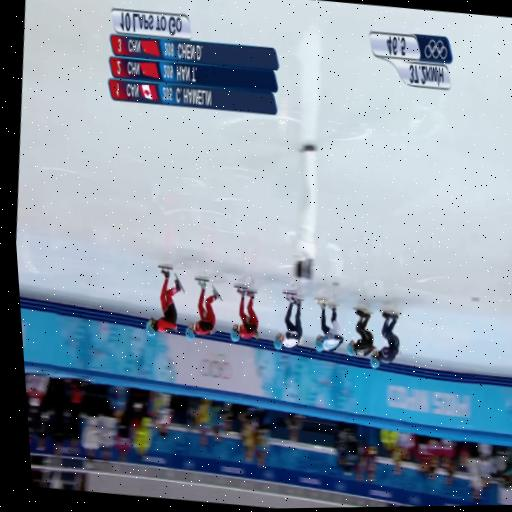Skater: (146, 266, 182, 335), (186, 278, 222, 340), (370, 311, 400, 368), (230, 286, 259, 341), (274, 293, 303, 348), (315, 299, 343, 351), (347, 309, 373, 355)
